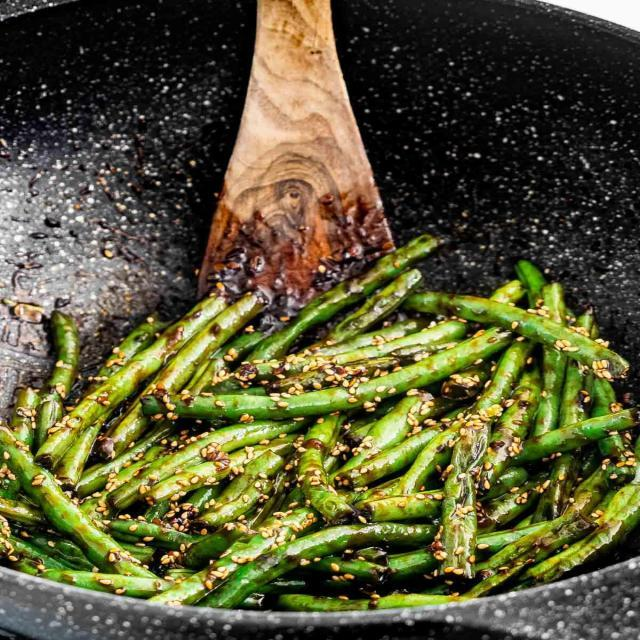Beans: (0, 275, 636, 622)
